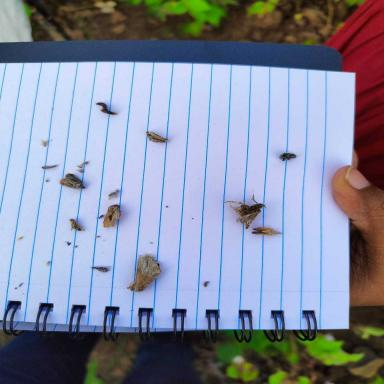abw: (224, 188, 265, 228), (125, 253, 161, 292), (58, 172, 86, 190), (101, 203, 121, 228)
pbw: (250, 225, 282, 235), (145, 130, 169, 143), (69, 218, 84, 232)
